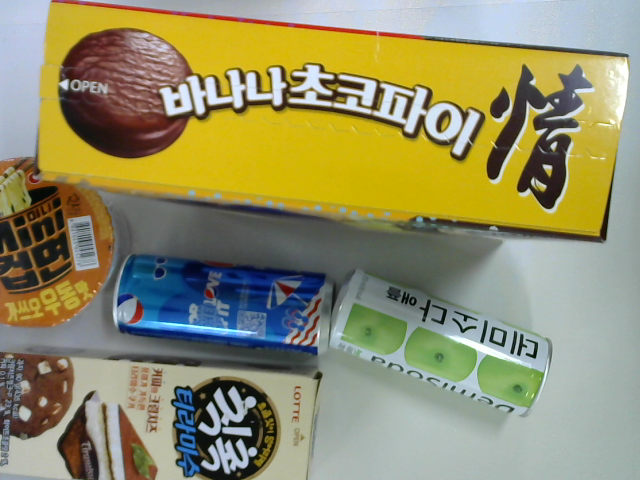Chicchok_Tiramisu: (1, 345, 326, 480)
Choco_Pie_Banana: (30, 1, 633, 243)
Demisoda_Apple_Can_250ml: (330, 268, 554, 419)
Pepsi_Cola_Can_250ml: (110, 249, 334, 355)
Udongmini: (1, 155, 122, 330)
